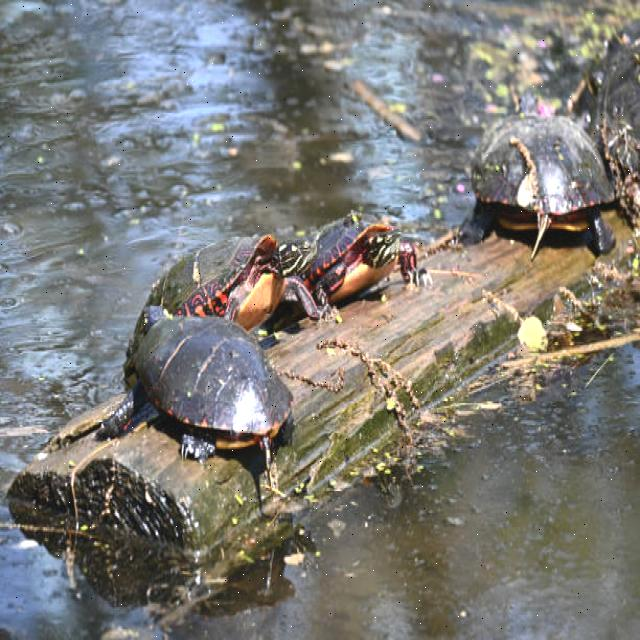tortoise: (98, 310, 296, 470), (467, 104, 611, 262), (302, 212, 440, 312)
